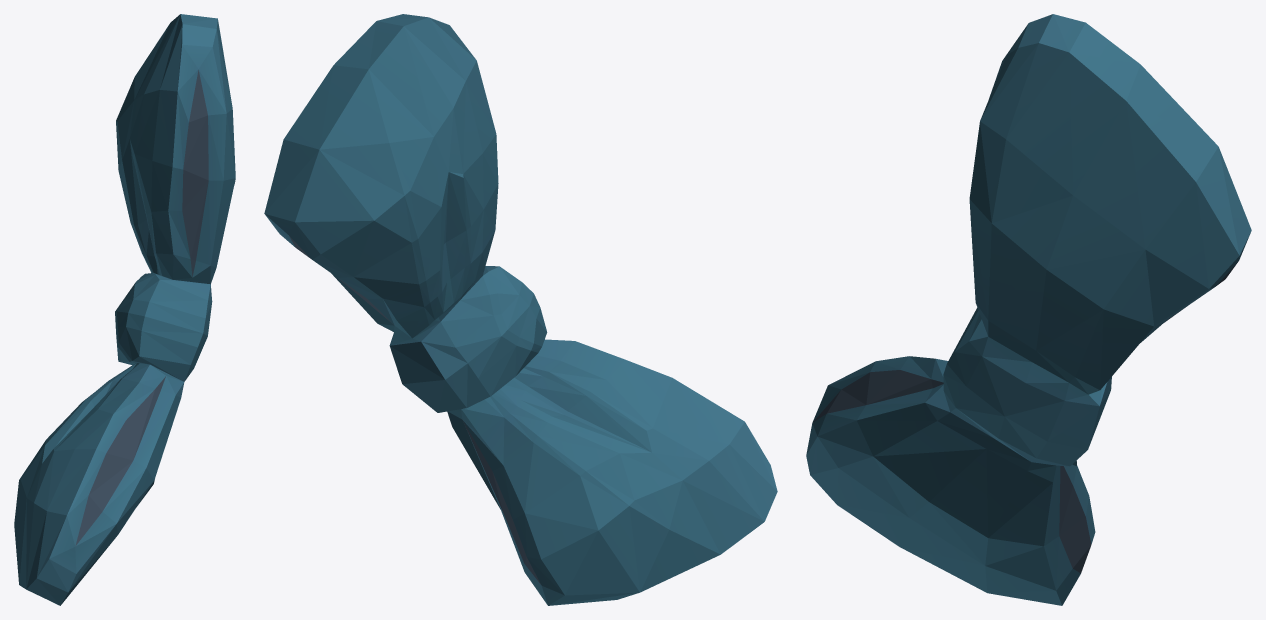
File: CharSkyKid_Hat_BlueBow.glb
3 views of the same model, side by side, from view 1: azimuth 30°, elevation 25°; view 2: azimuth 150°, elevation 25°; view 3: azimuth 270°, elevation 25° (orthographic). The views are drawn at different scales.
Parts seen in each view (by area): view 1: CharSkyKid_Hat_BlueBow; view 2: CharSkyKid_Hat_BlueBow; view 3: CharSkyKid_Hat_BlueBow.
Part boxes in pixels (x1=…): CharSkyKid_Hat_BlueBow: x1=14, y1=14, x2=235, y2=605; CharSkyKid_Hat_BlueBow: x1=264, y1=14, x2=777, y2=605; CharSkyKid_Hat_BlueBow: x1=806, y1=14, x2=1251, y2=605.
Size of the model in its own units: 1.15 by 1.82 by 1.09.
Materials: 1 (1 with a texture image).
